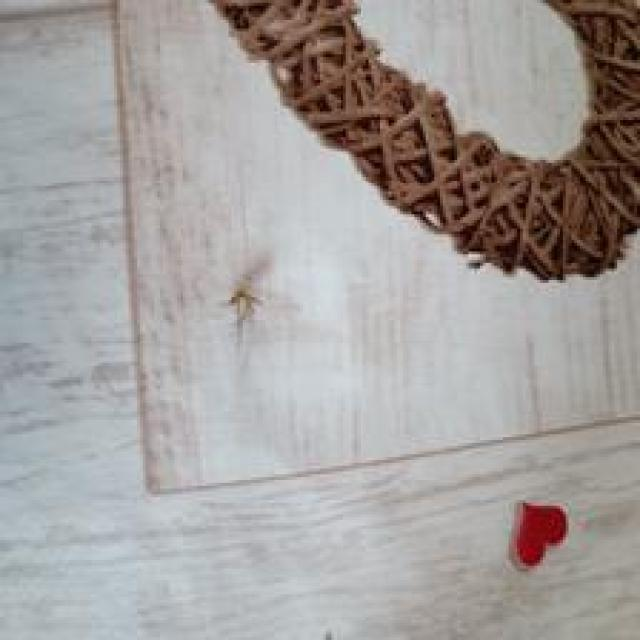Culex: (194, 0, 640, 283)
